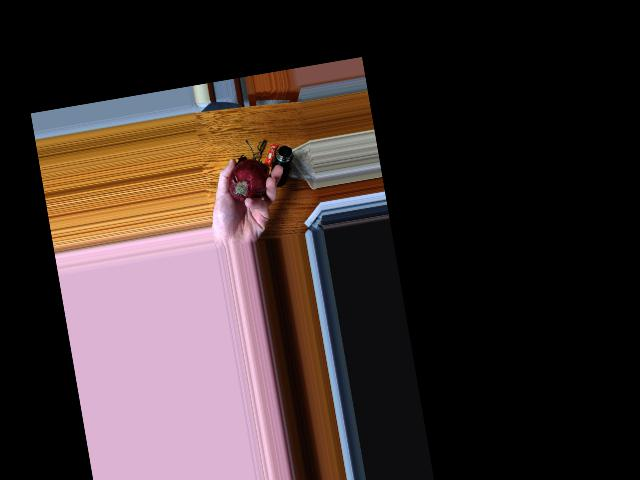onion: (224, 156, 273, 209)
